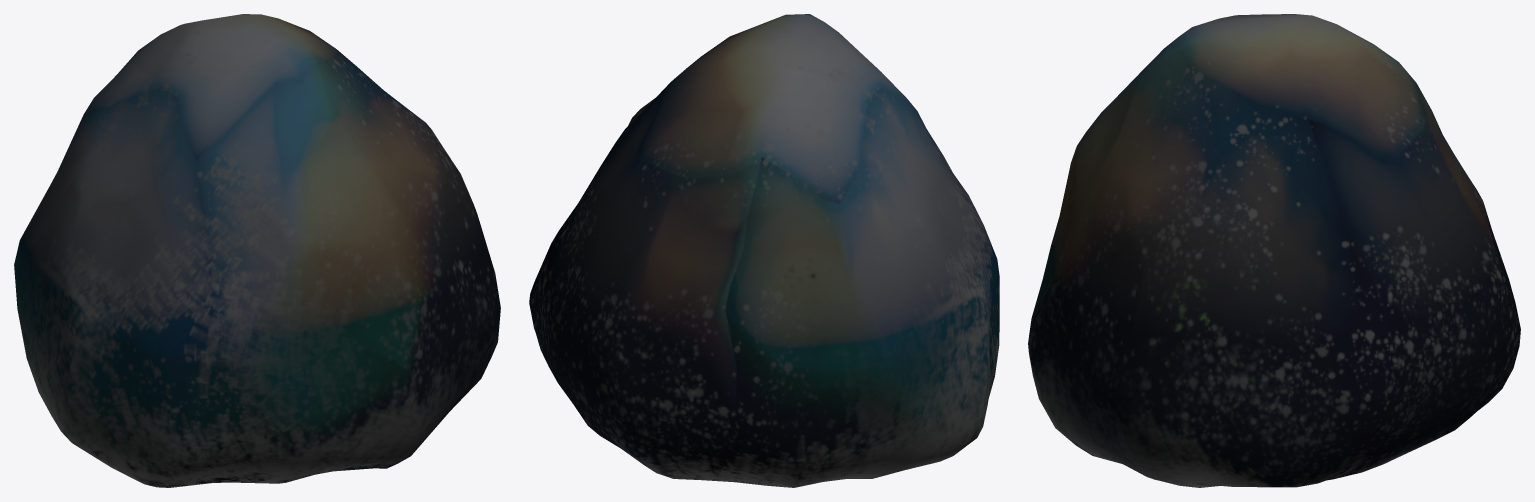
The model's file is riverrock2.fbx.
The picture shows the model from 3 angles, left to right: view 1: azimuth 30°, elevation 25°; view 2: azimuth 150°, elevation 25°; view 3: azimuth 270°, elevation 25°; orthographic projection. The views are drawn at different scales.
Visible parts, largest first — view 1: Rocks.015; view 2: Rocks.015; view 3: Rocks.015.
Boxes of the visible parts, x1,y1,x2,y2 form: Rocks.015: (14,14,500,487); Rocks.015: (529,14,999,487); Rocks.015: (1028,14,1520,487).
Bounding box in the file's own units: 45.76 × 43.36 × 46.56.
Materials: 1 (1 with a texture image).
